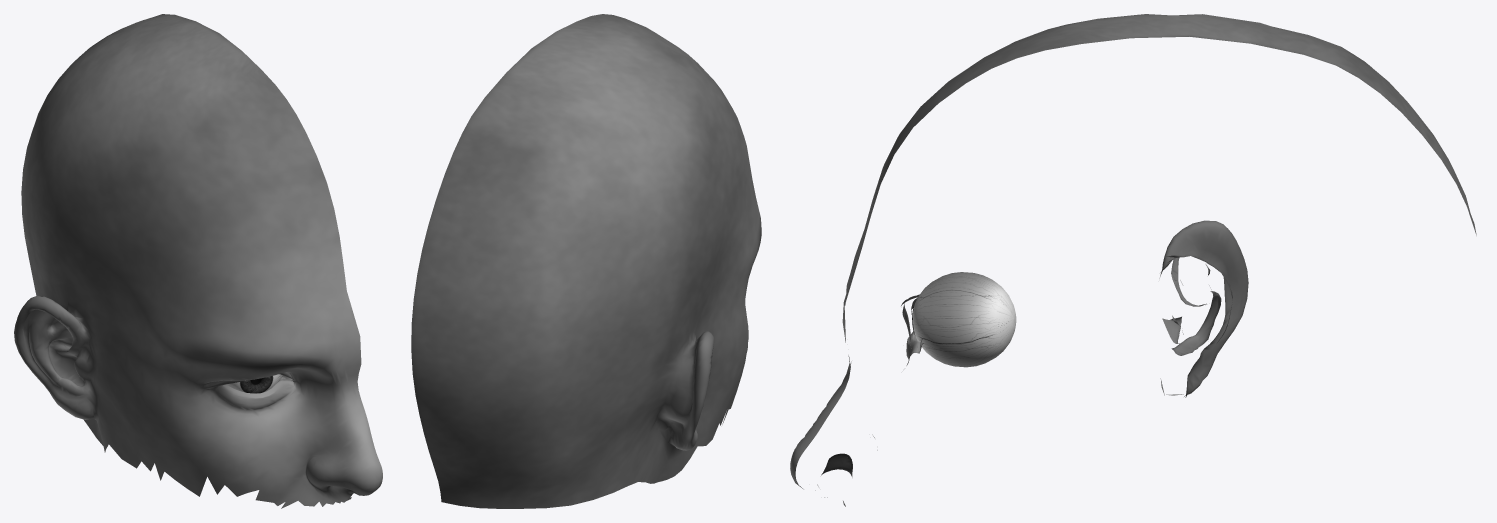
File: eyeDRACO.glb
3 views of the same model, side by side, from view 1: azimuth 30°, elevation 25°; view 2: azimuth 150°, elevation 25°; view 3: azimuth 270°, elevation 25° (orthographic). The views are drawn at different scales.
Parts seen in each view (by area): view 1: Face, Eye; view 2: Face; view 3: Face, Eye.
Part boxes in pixels (x1,y1,x2,y2): Face: [14, 14, 382, 508]; Eye: [227, 374, 282, 393]; Face: [411, 14, 761, 508]; Face: [790, 14, 1476, 506]; Eye: [912, 272, 1016, 367].
Bounding box in the file's own units: 8.94 × 16.84 × 21.38.
2 materials, 2 textured.
